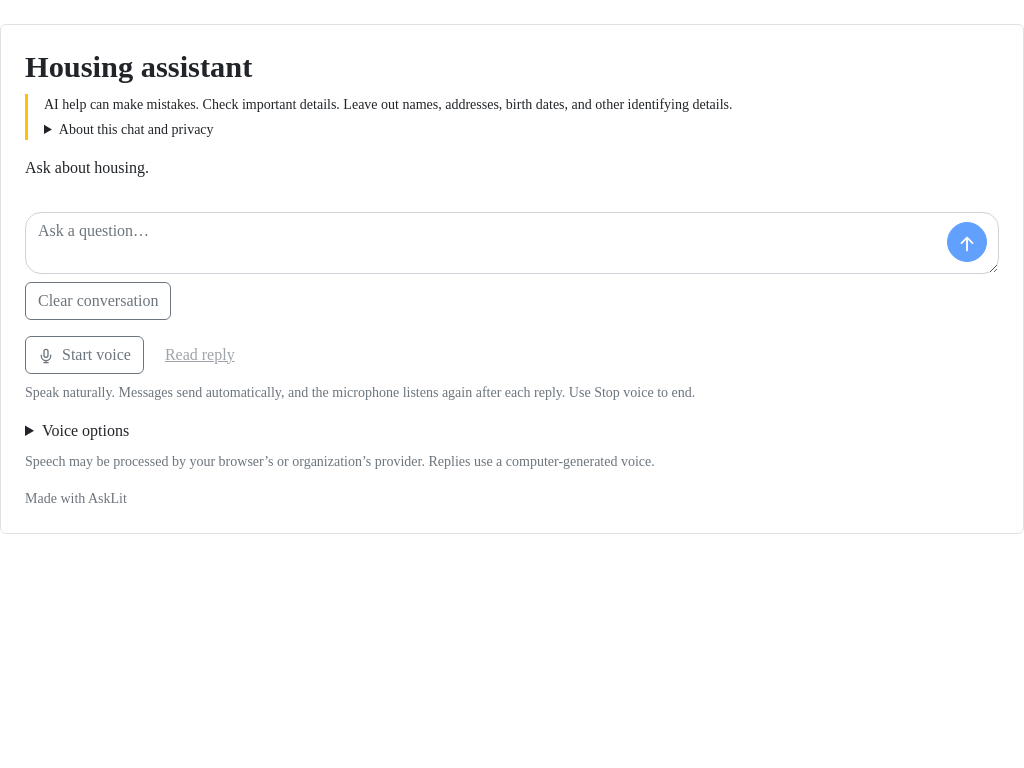
Test: a terminal failed attempt can be retried with a new request ID
The image size is (1024, 768).
Check: the heading "Housing assistant" is shown, box [25, 50, 252, 84]
Type "Question" into the text box named "Your question" at (512, 242), box [25, 212, 999, 274]
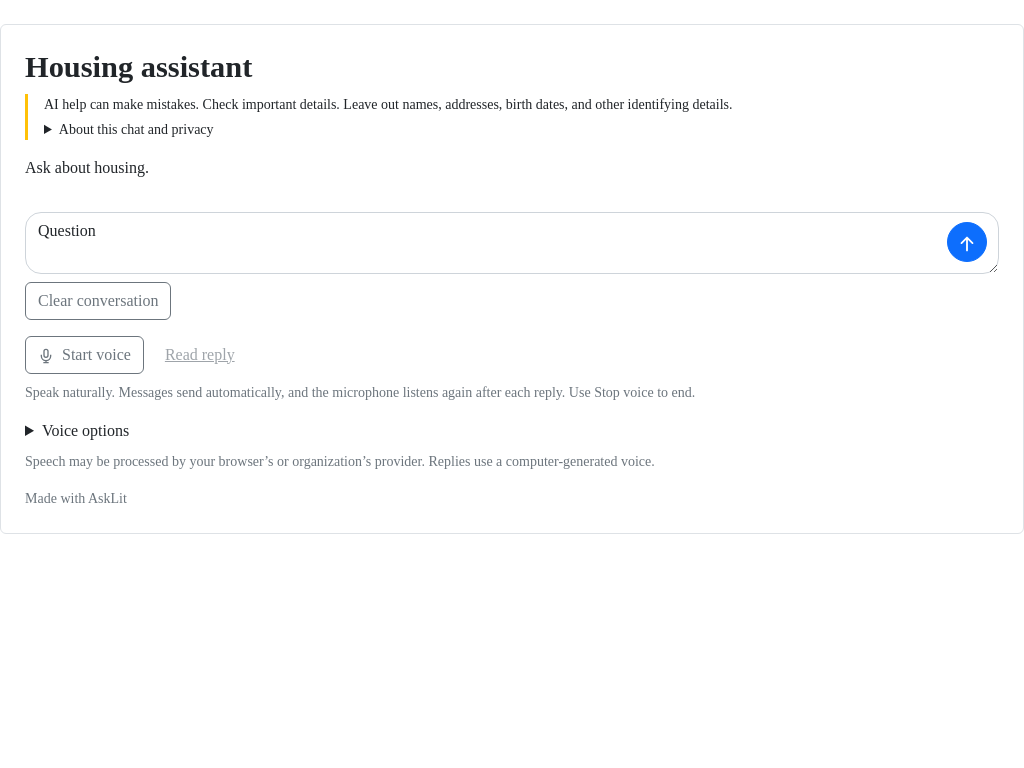
Click the button named "Send" at (967, 242), box [947, 222, 987, 262]
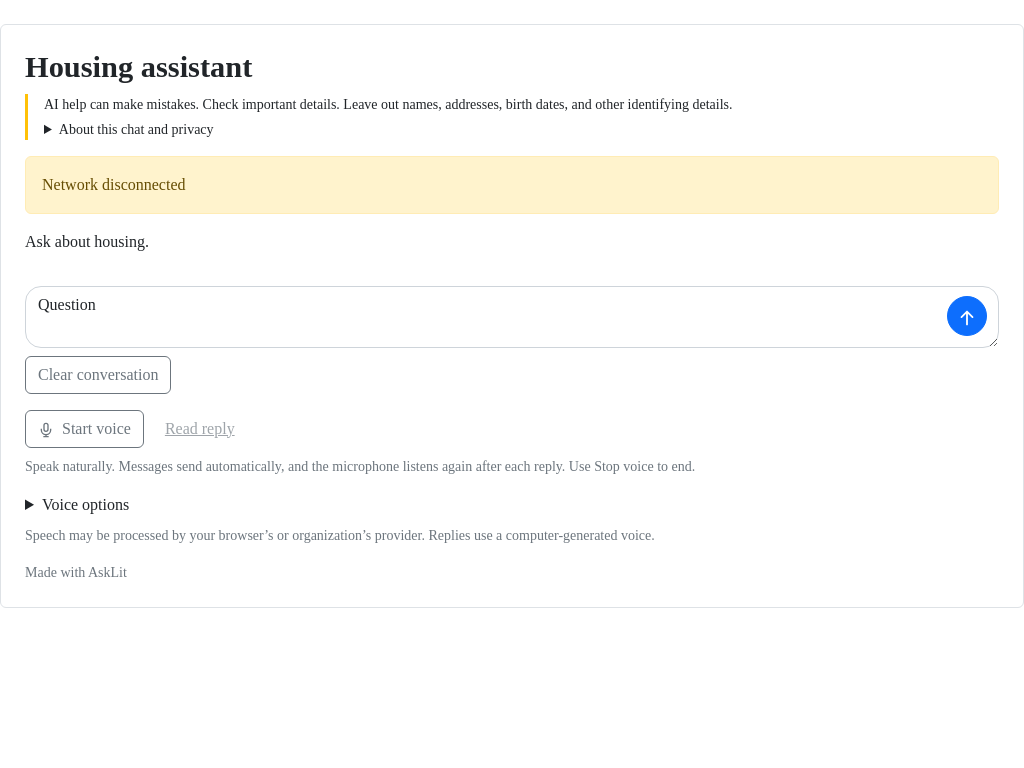
Check: the text "Network disconnected" is shown, box [25, 156, 999, 214]
Click the button named "Send" at (967, 316), box [947, 296, 987, 336]
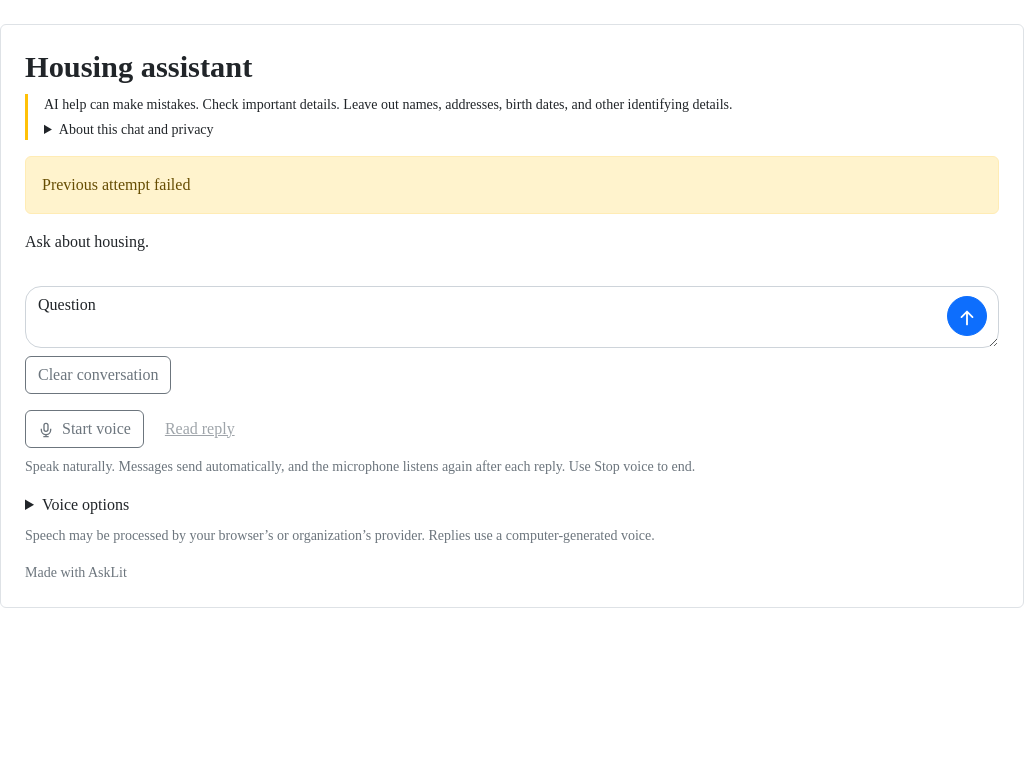
Check: the text "Previous attempt failed" is shown, box [25, 156, 999, 214]
Click the button named "Send" at (967, 316), box [947, 296, 987, 336]
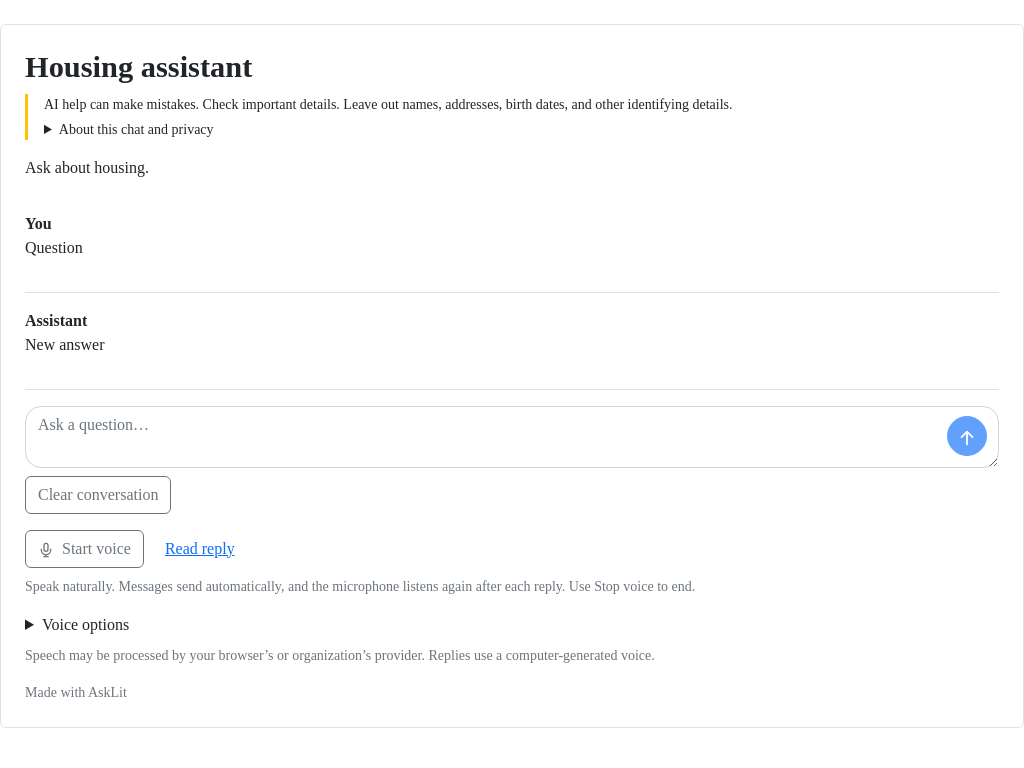
Check: the text "New answer" is shown, box [25, 336, 104, 352]
